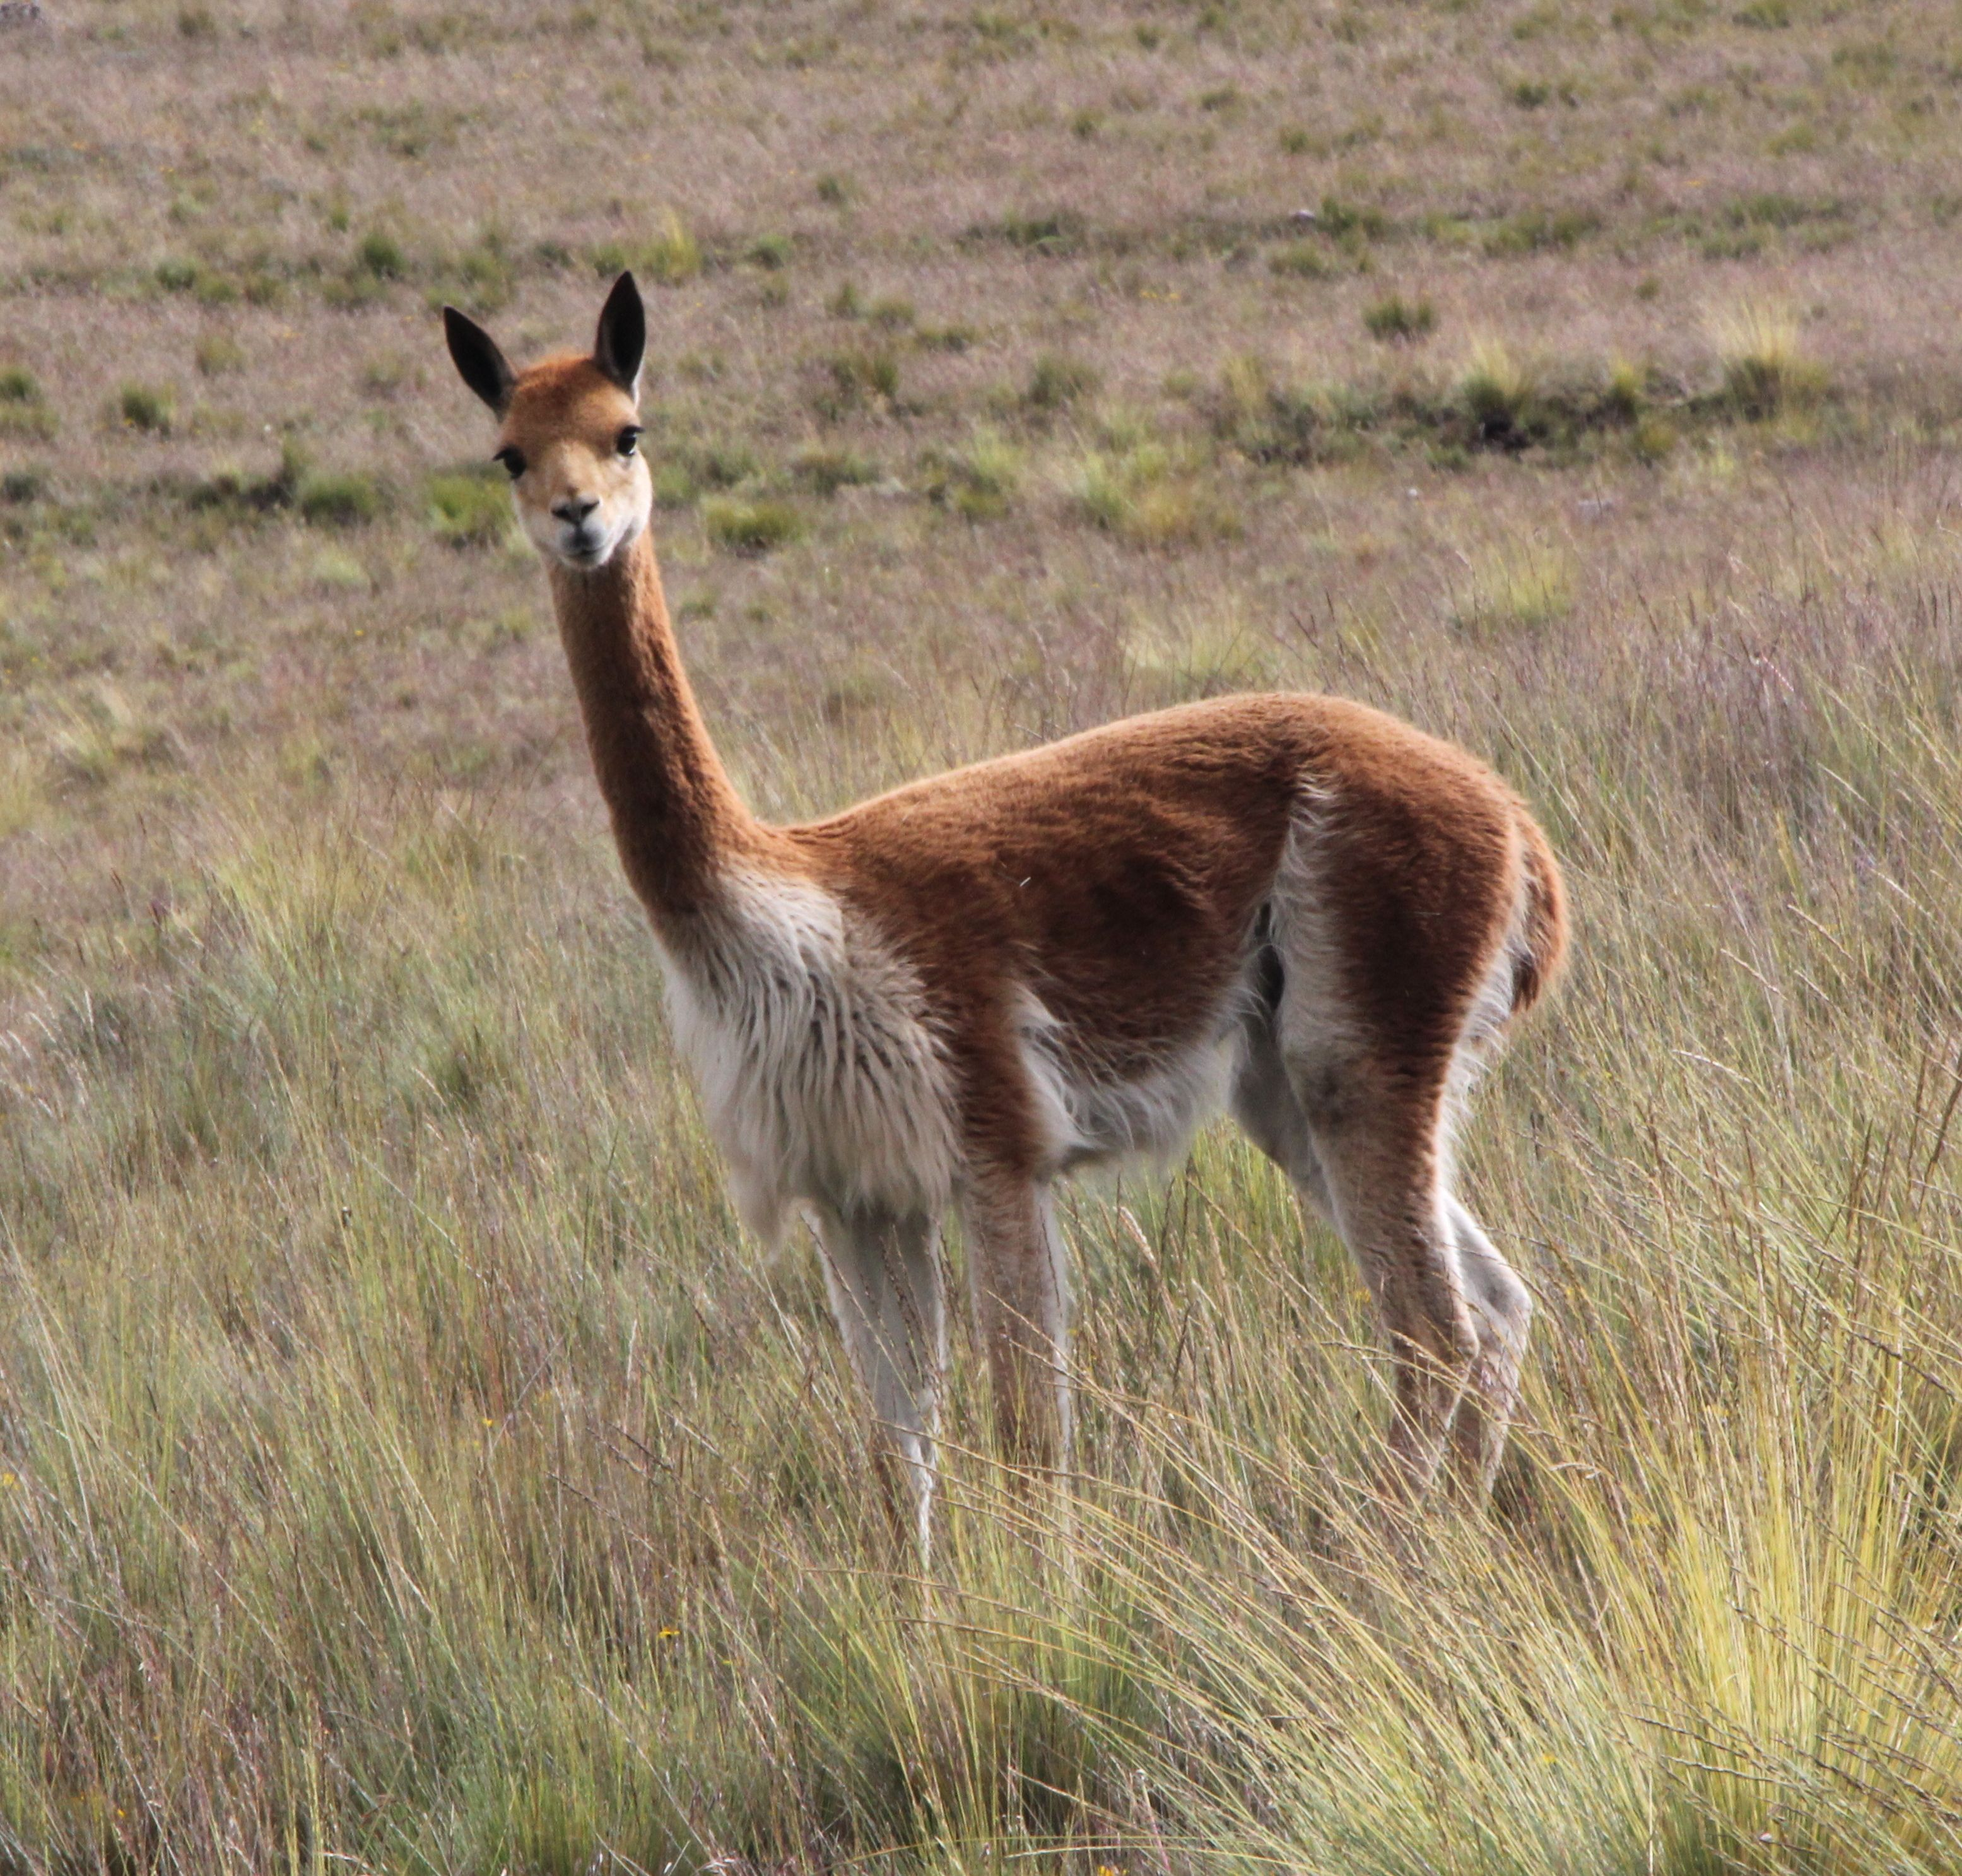eye: (469, 438, 554, 489), (610, 422, 678, 480)
mouth: (543, 503, 631, 580)
